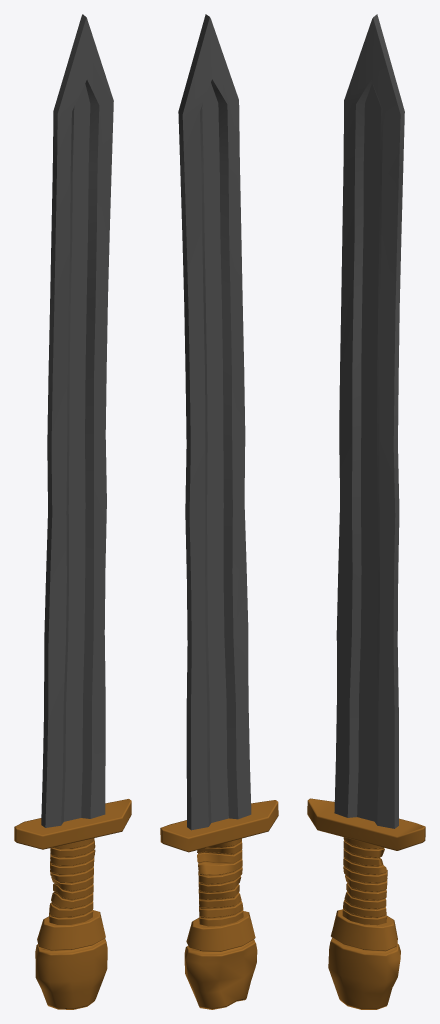
Rendered from shortsword.fbx.
The picture shows the model from 3 angles, left to right: view 1: azimuth 30°, elevation 25°; view 2: azimuth 210°, elevation 25°; view 3: azimuth 330°, elevation 25°; orthographic projection.
Parts seen in each view (by area): view 1: polySurface7.002; view 2: polySurface7.002; view 3: polySurface7.002.
Boxes of the visible parts, left/top/right/bottom form: polySurface7.002: left=14, top=14, right=131, bottom=1009; polySurface7.002: left=160, top=14, right=278, bottom=1009; polySurface7.002: left=307, top=14, right=425, bottom=1009.
Bounding box in the file's own units: 636 × 5210 × 229.
